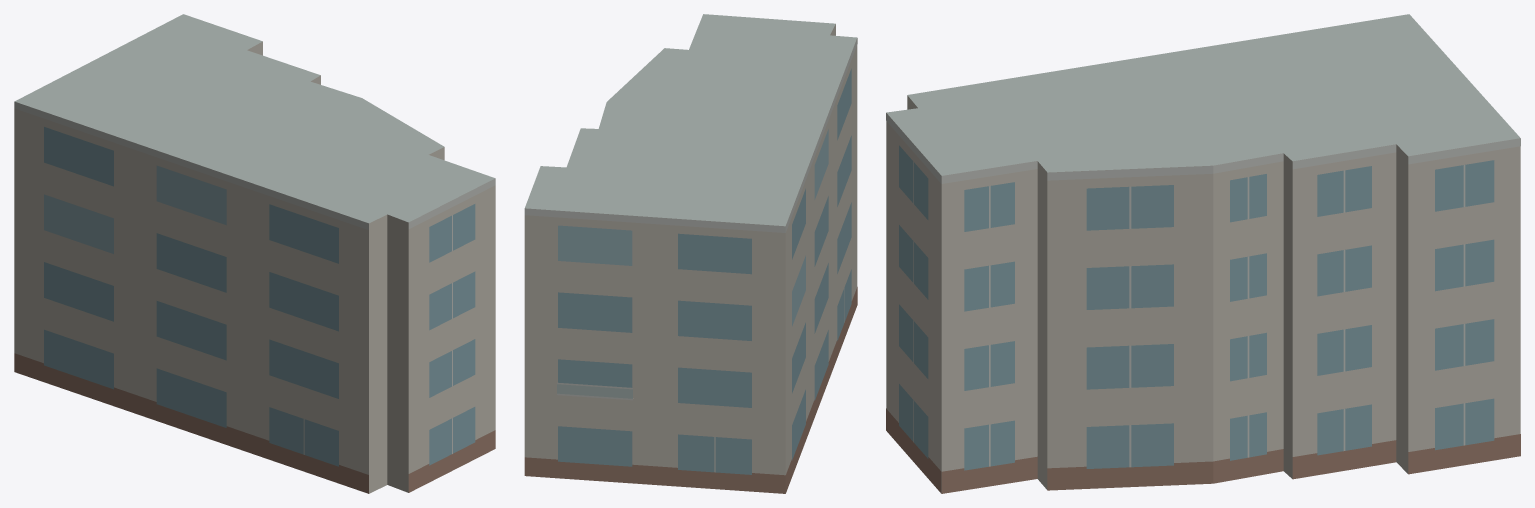
File: survey-upis-32758448.glb
3 renders of one model, left to right at view 1: azimuth 30°, elevation 25°; view 2: azimuth 150°, elevation 25°; view 3: azimuth 270°, elevation 25°, orthographic. The views are drawn at different scales.
Parts seen in each view (by area): view 1: survey-upis-32758448.tmp; view 2: survey-upis-32758448.tmp; view 3: survey-upis-32758448.tmp.
Part boxes in pixels (<box>): survey-upis-32758448.tmp: <box>14,14,495,493</box>; survey-upis-32758448.tmp: <box>524,14,857,493</box>; survey-upis-32758448.tmp: <box>886,14,1520,493</box>.
Bounding box in the file's own units: 10.44 × 9.55 × 17.29.
